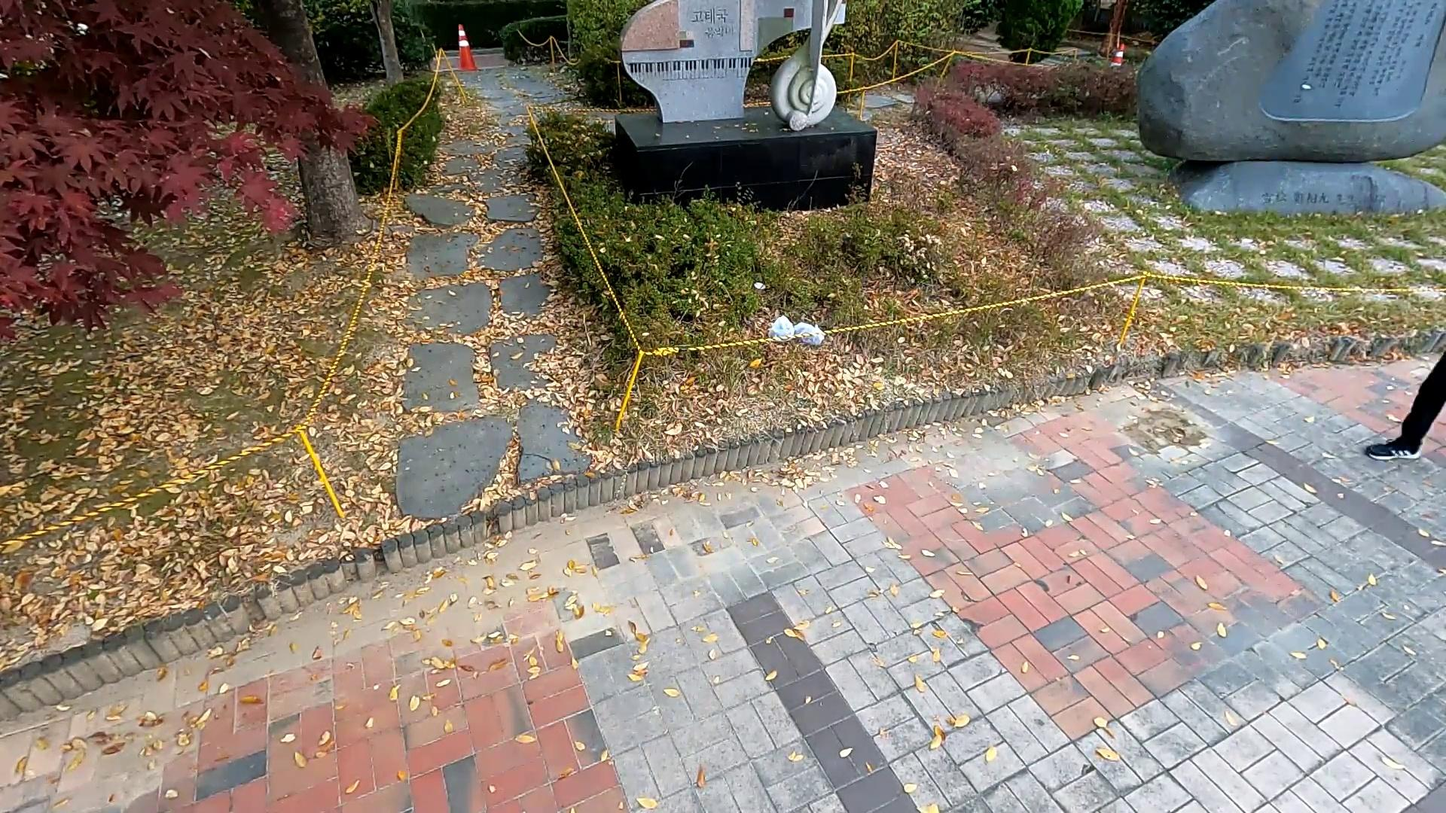trash: (792, 321, 826, 346), (769, 314, 795, 342)
